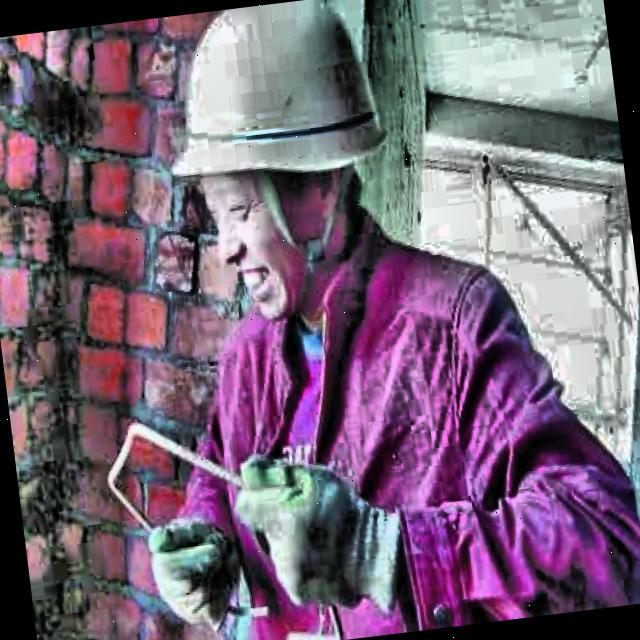helmet: (154, 0, 418, 333)
